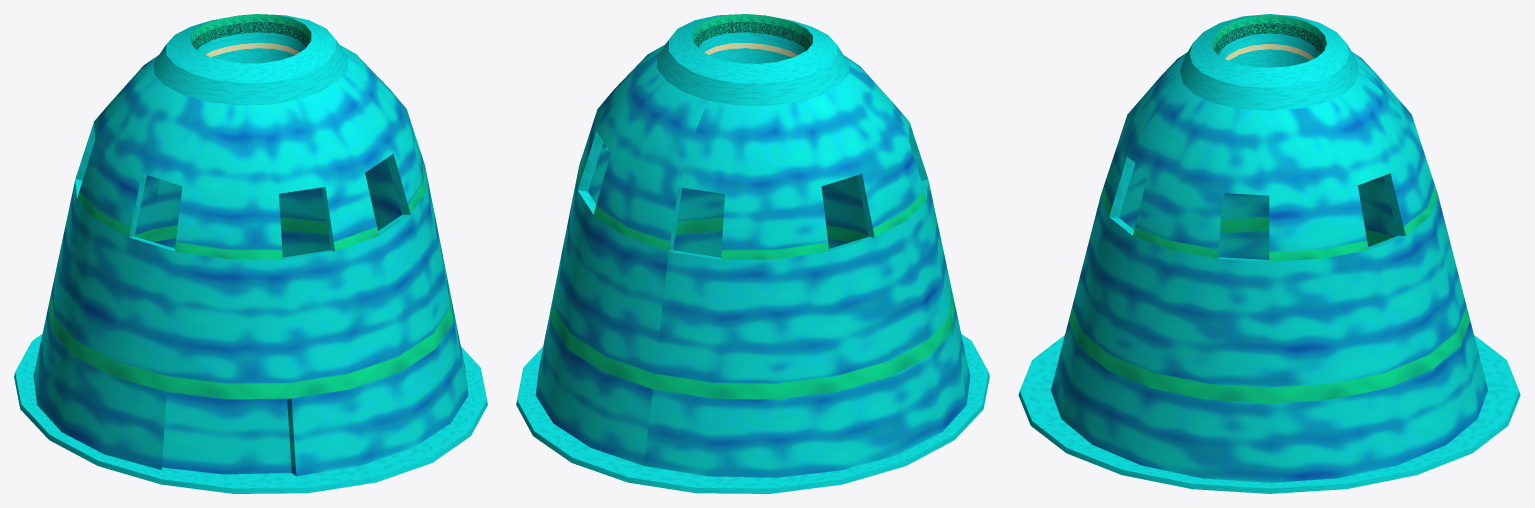
Rendered from SM_Hoven_01.fbx.
The picture shows the model from 3 angles, left to right: view 1: azimuth 30°, elevation 25°; view 2: azimuth 150°, elevation 25°; view 3: azimuth 270°, elevation 25°; orthographic projection.
Visible parts, largest first — view 1: SM_Hoven_01; view 2: SM_Hoven_01; view 3: SM_Hoven_01.
Boxes of the visible parts, left/top/right/bottom form: SM_Hoven_01: left=14, top=14, right=487, bottom=493; SM_Hoven_01: left=516, top=14, right=989, bottom=493; SM_Hoven_01: left=1018, top=14, right=1520, bottom=493.
Bounding box in the file's own units: 21.86 × 18.28 × 23.5.
Materials: 1 (1 with a texture image).
